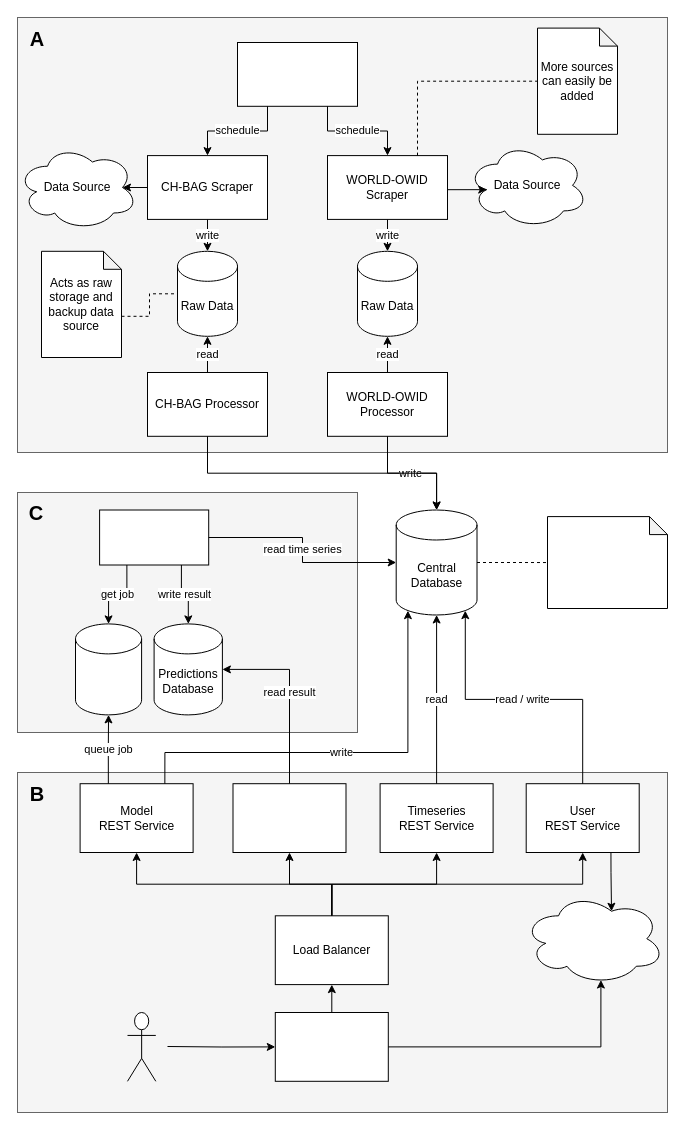
This 685x1130 diagram has some shape labels left out. The centre of each missing label's shape, as x and y in pixels:
"Identity Provider" goes at (x=593, y=938).
"Job Queue" goes at (x=108, y=669).
"Prediction REST Service" goes at (x=289, y=817).
"Prediction Service" goes at (x=154, y=537).
"Relational database storing countries, timeseries, models, users." goes at (x=607, y=562).
"Scrape Scheduler" goes at (x=297, y=74).
"Single Page Web Application" goes at (x=331, y=1046).
"User" goes at (x=141, y=1046).
